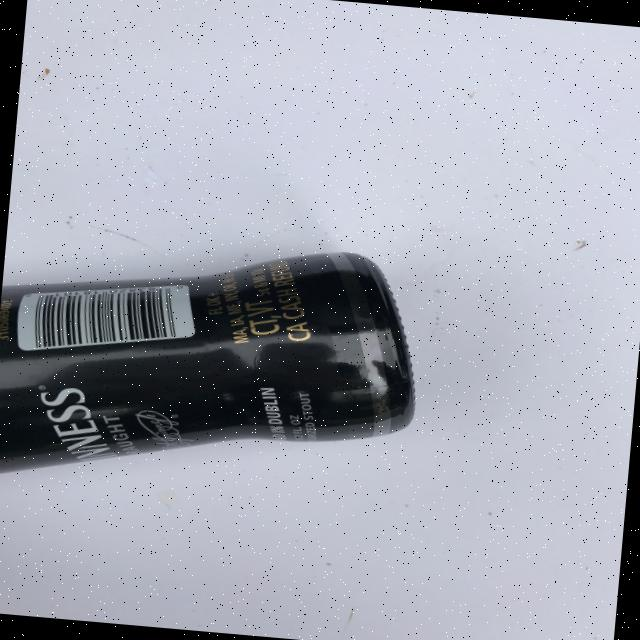glass: (0, 226, 419, 519)
